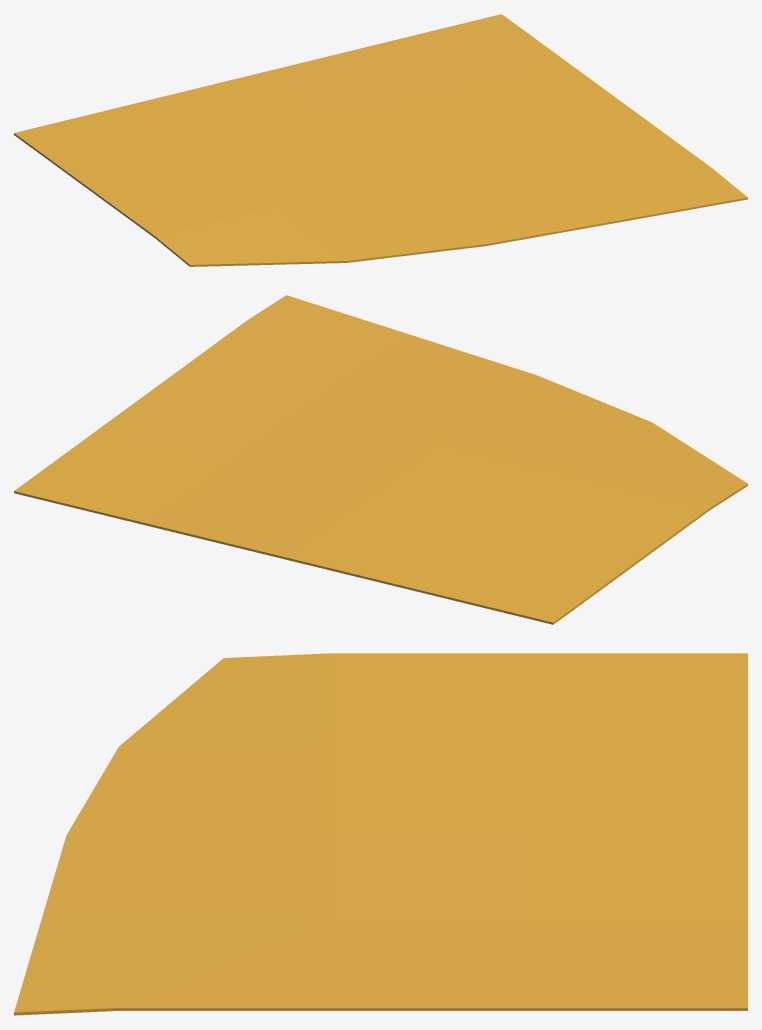
3 renders of one model, top to bottom at view 1: azimuth 30°, elevation 25°; view 2: azimuth 150°, elevation 25°; view 3: azimuth 270°, elevation 25°, orthographic. The views are drawn at different scales.
Parts seen in each view (by area): view 1: 01_street_base_plate-COL.049; view 2: 01_street_base_plate-COL.049; view 3: 01_street_base_plate-COL.049.
Part boxes in pixels (left/top/right/bottom): 01_street_base_plate-COL.049: left=14, top=14, right=747, bottom=266; 01_street_base_plate-COL.049: left=14, top=295, right=747, bottom=624; 01_street_base_plate-COL.049: left=14, top=653, right=747, bottom=1015.
Size of the model in its own units: 256 by 2.57 by 224.
